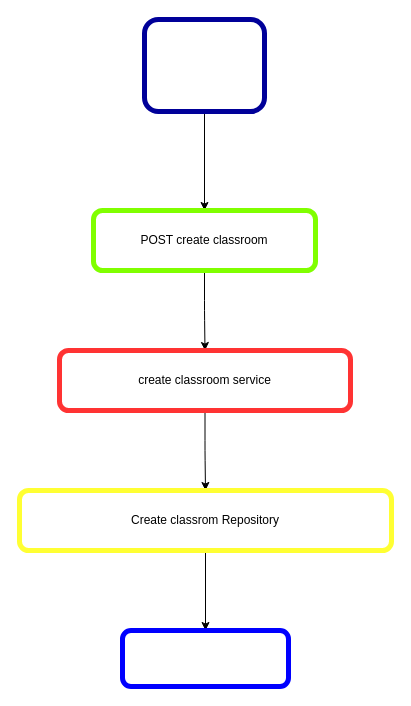
Some shapes in this 411 by 706 pixel diagram are drawn without their labels. Here are the shapes that lost their labels. From the top down, the box of each, then its label:
(142, 16, 266, 114): Nome Tema assunto
(120, 628, 290, 688): Tabela de Classroom
